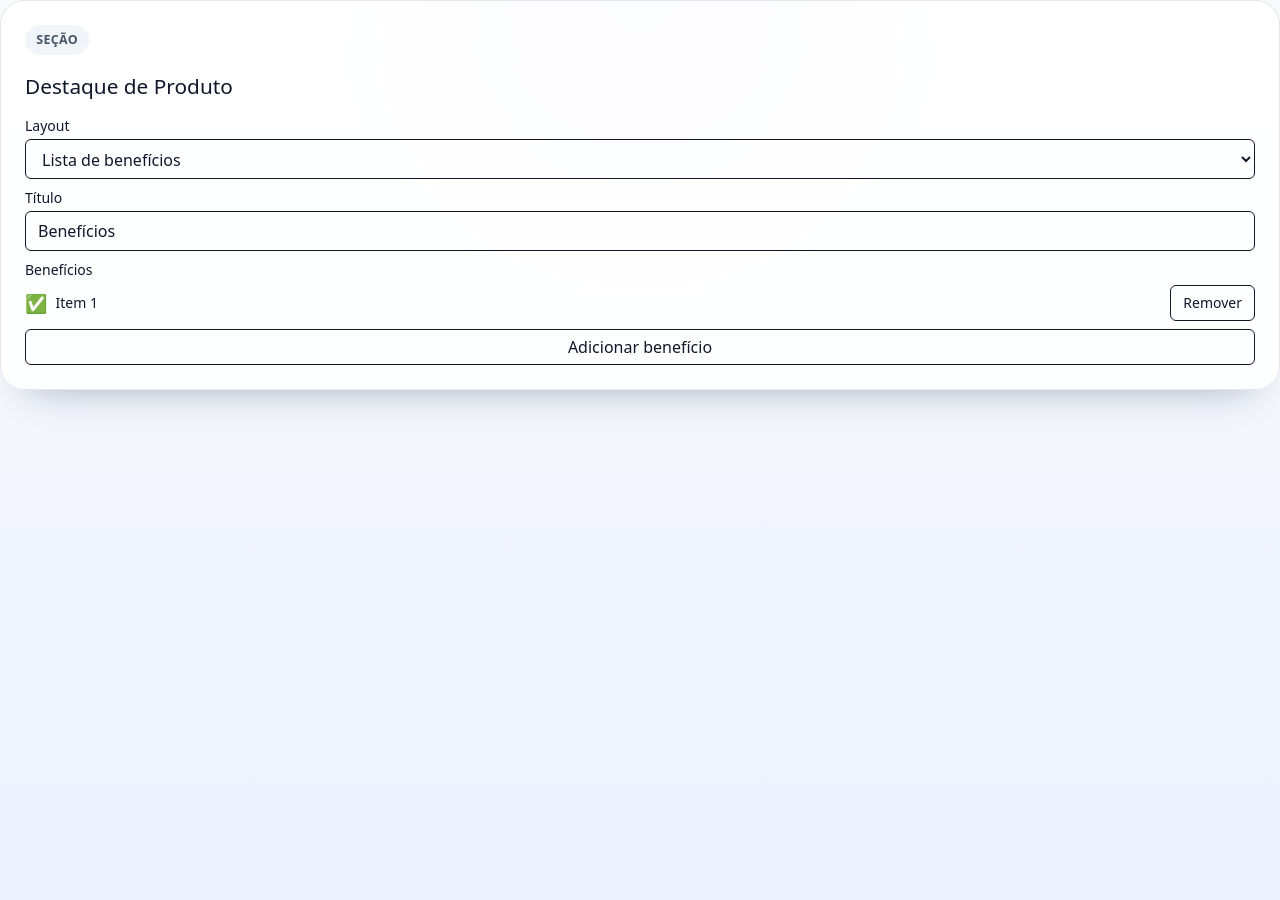
Test: ProductHighlightEditor › clicking remove opens ConfirmRemoveModal
The width and height of the screenshot is (1280, 900).
Step 1. Click the button with aria-label "remover benefício" → [1213, 303], box [1170,285,1255,321]
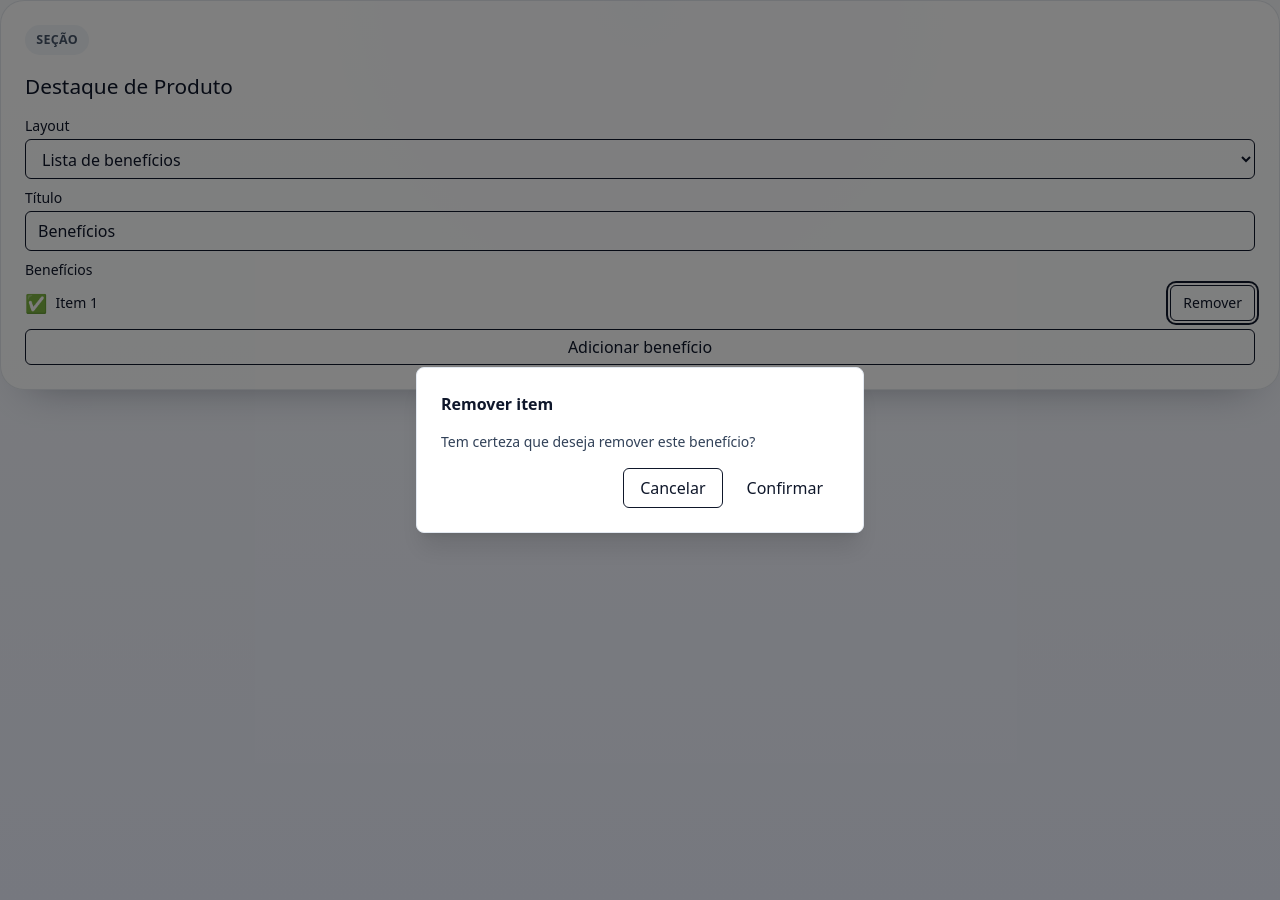
Expected: the text "Tem certeza que deseja remover este benefício?" is shown, [441,432,755,451]
